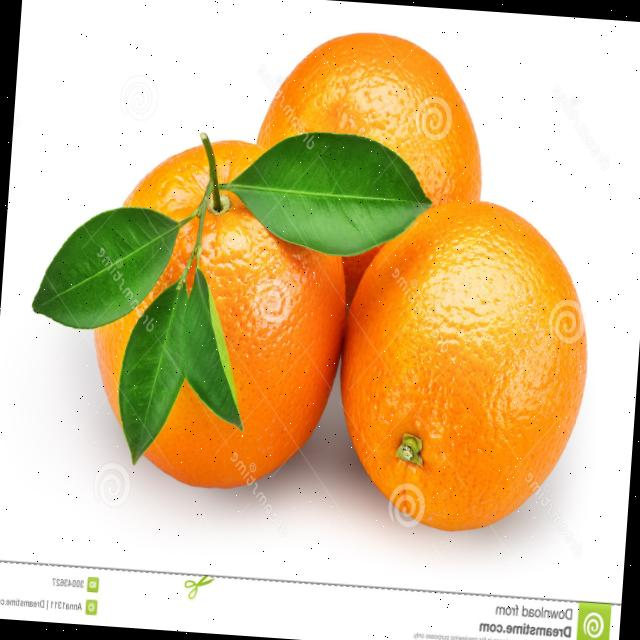Jeruk: (84, 126, 358, 496), (329, 190, 598, 540), (245, 22, 492, 306)
